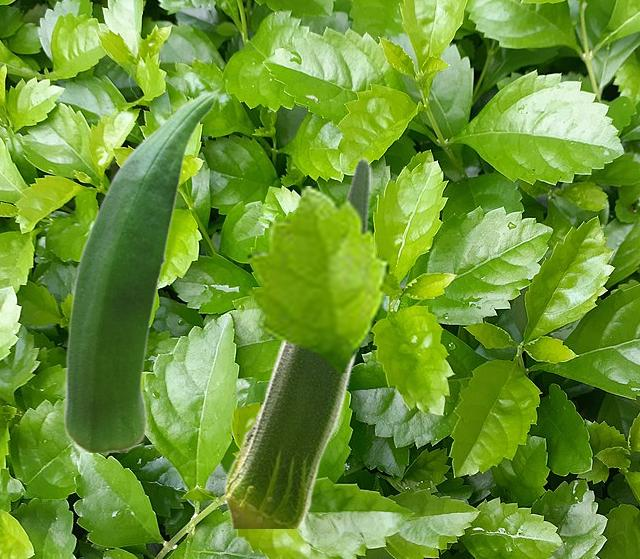okra: (62, 90, 217, 451), (223, 155, 371, 527)
